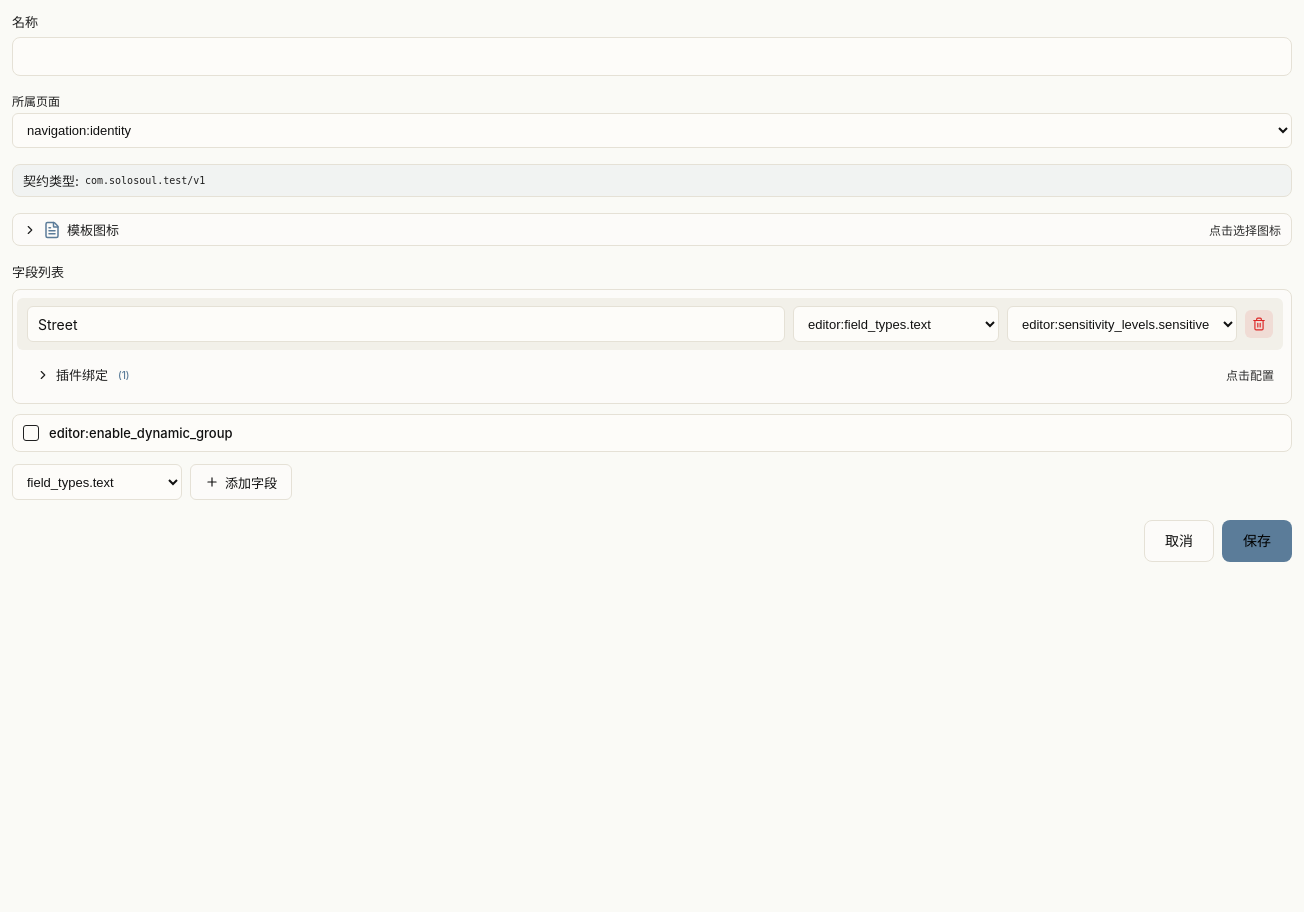
Test: TemplateEditor — toggleBindingExpanded auto-derivation › shows persisted bindings with solid border and remove button
This screenshot has width=1304, height=912.
Click the button "插件绑定 (1) 点击配置" at (82, 375), box [27,360,1283,389]
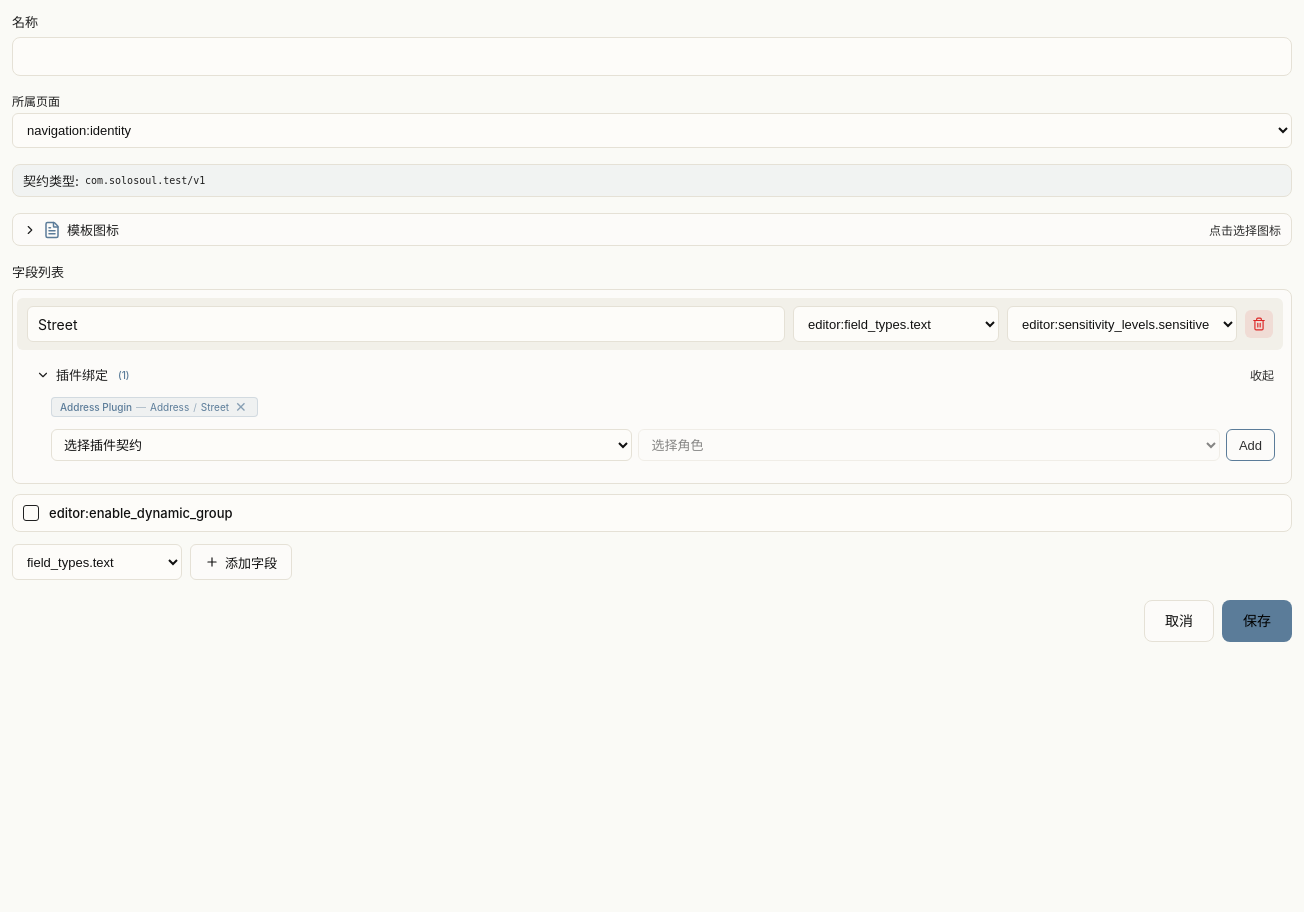
Check: the button named "删除" is shown, box [1245,310,1273,338]
Check: the element showing "插件绑定 (1) 收起 Address Plugin — Address / Street ✕ Add" is shown, box [12,289,1292,484]
